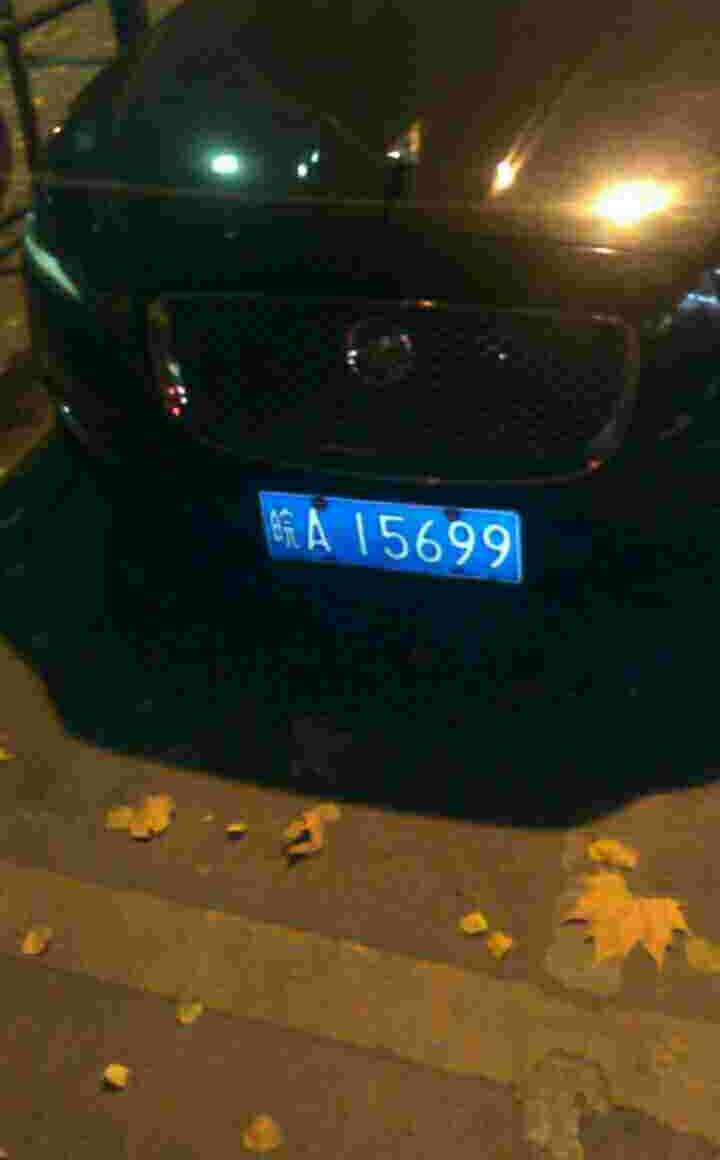car: (244, 485, 534, 580)
